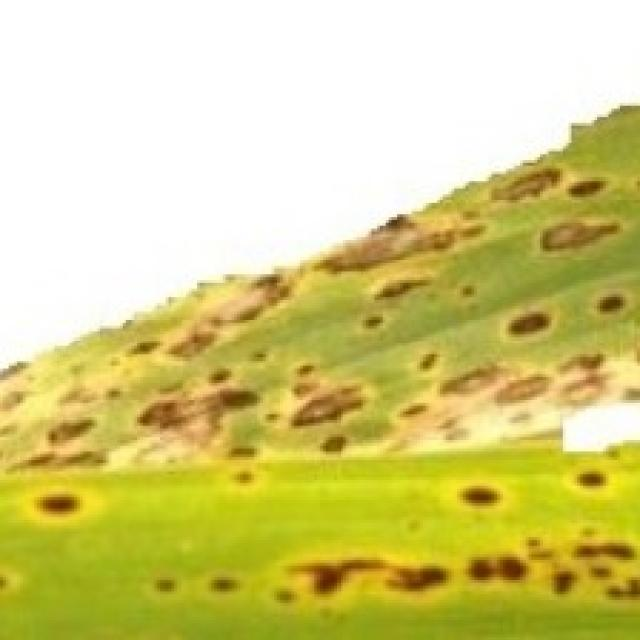Rice___Brown_Spot: (1, 103, 637, 637)
